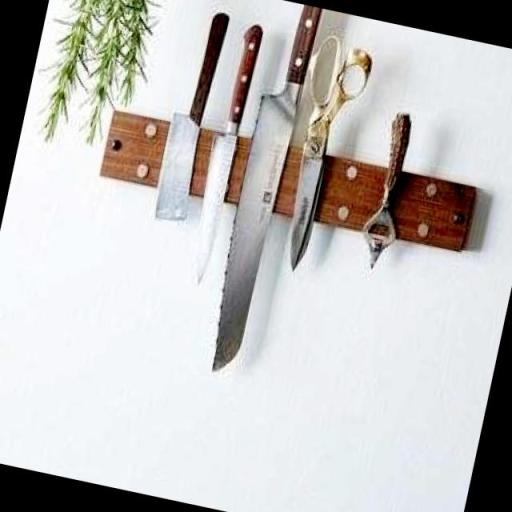knife: (179, 8, 273, 295)
